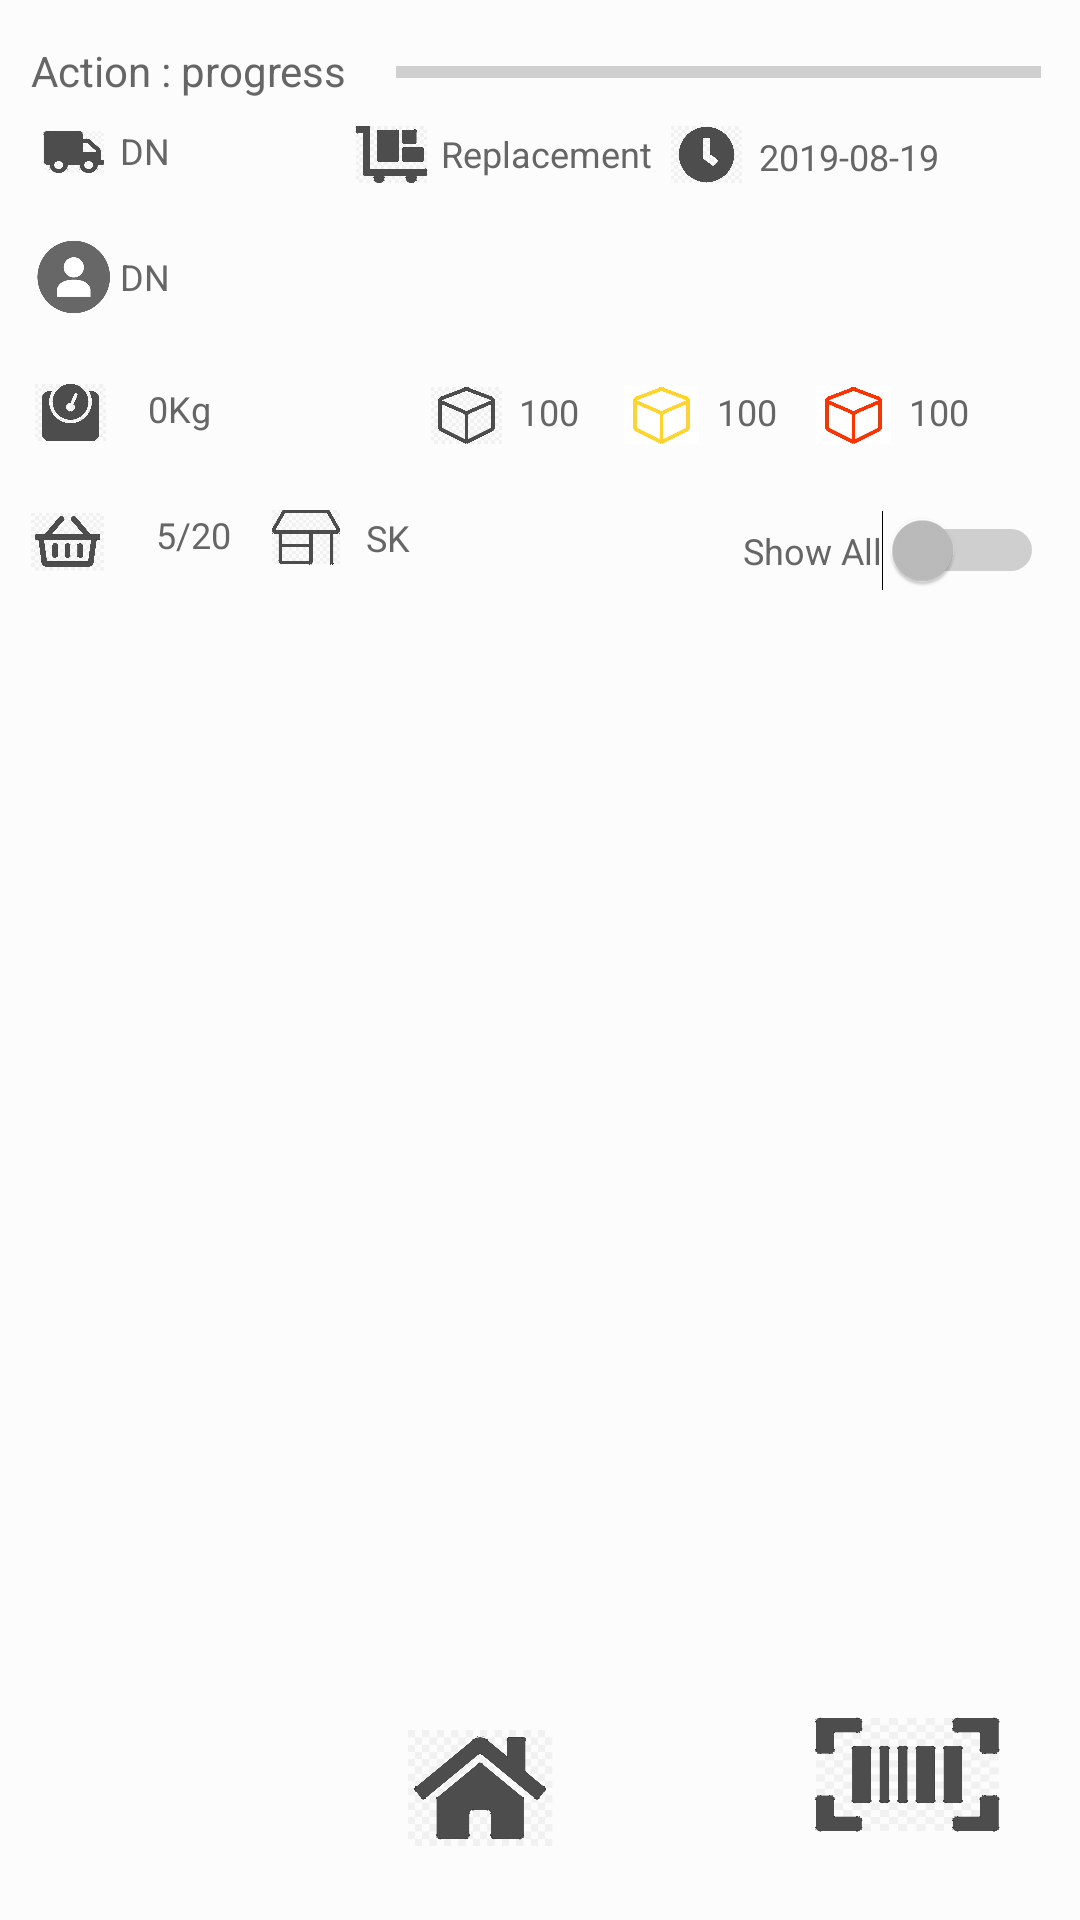

Named icons in this screenshot (1080w x 1920h) and their centers, [x,y]:
barcode: [907,1774]
basket: [67,541]
clock: [706,155]
cube: [466,415]
dolly: [391,154]
home: [480,1788]
prof: [73,277]
readcube: [853,415]
store: [306,537]
truck: [73,152]
weight: [70,412]
yellowcube: [661,415]
